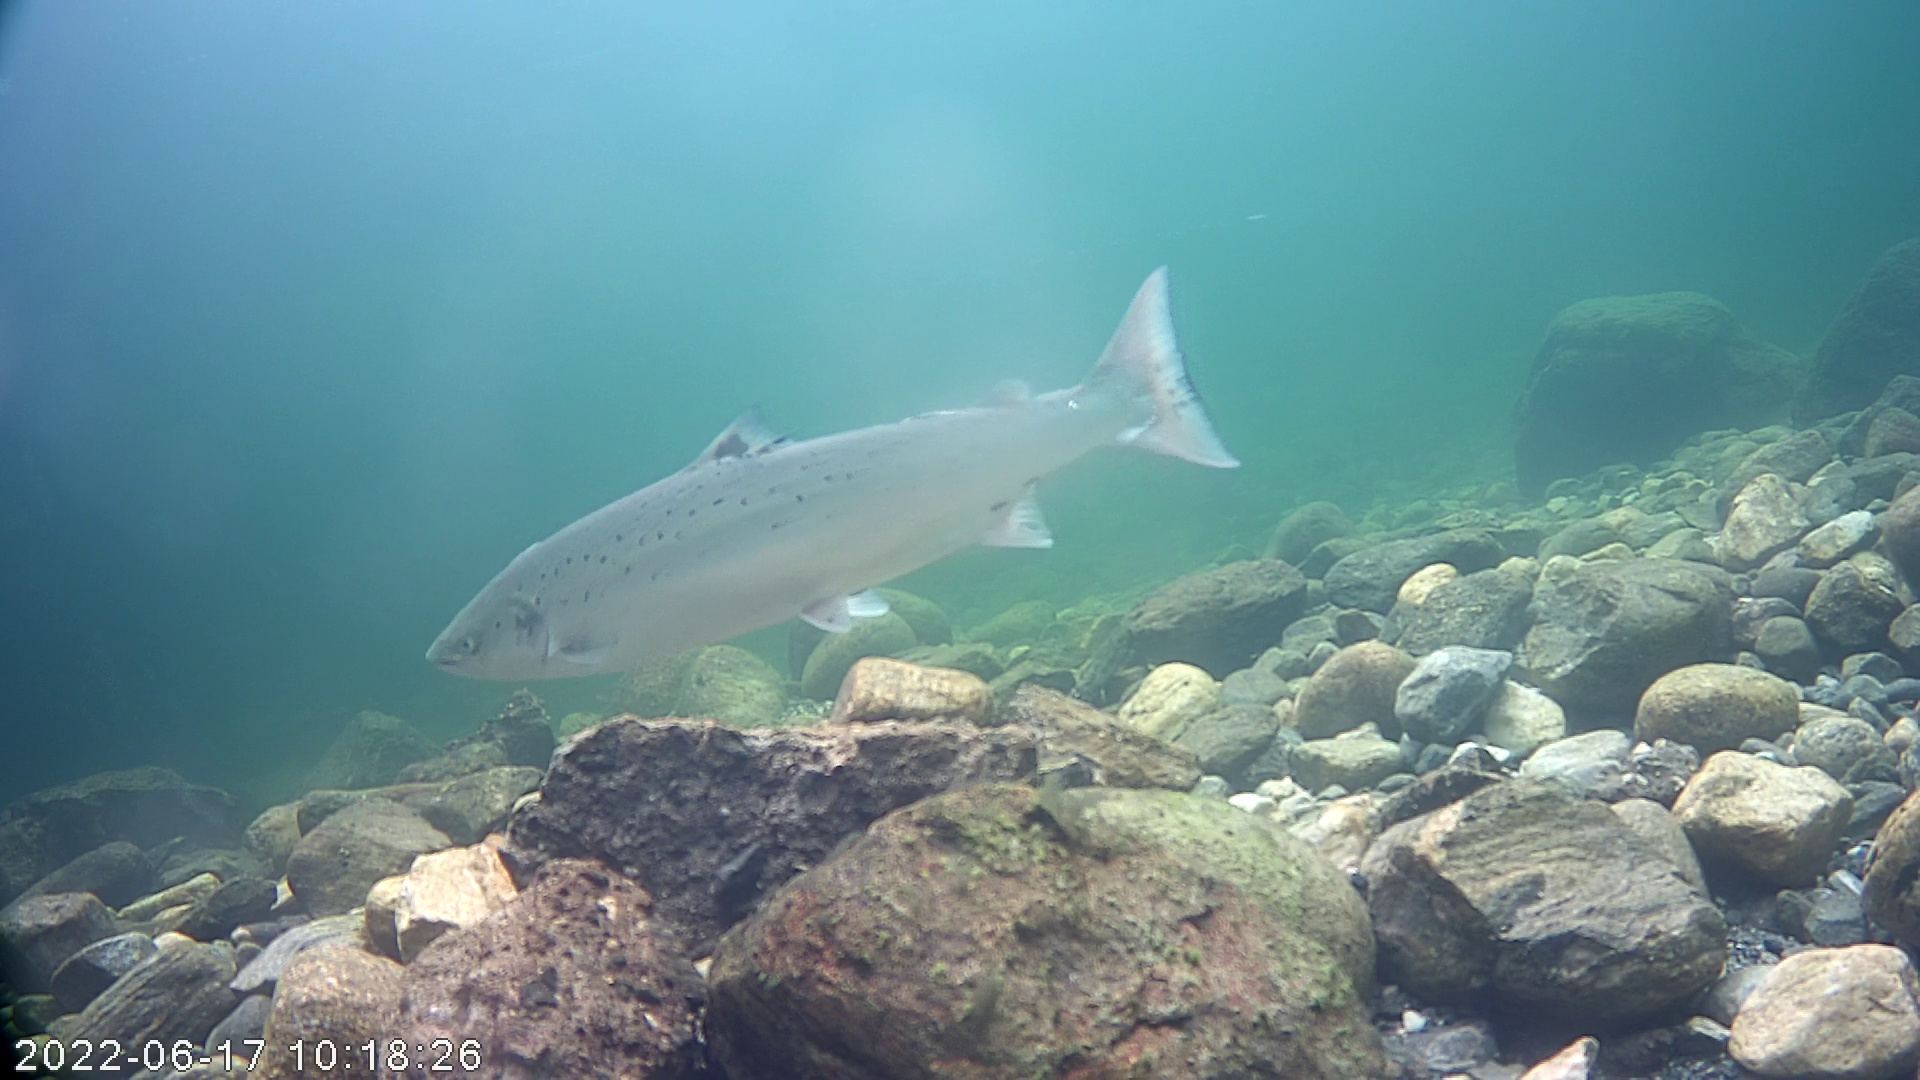salmon: (419, 268, 1247, 692)
